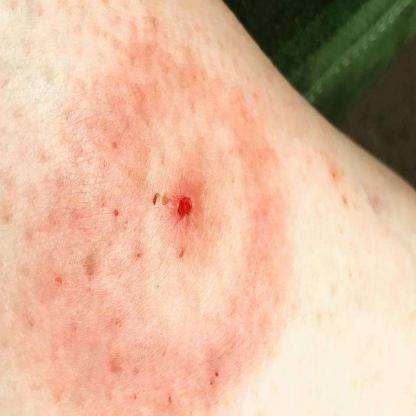Tick: (32, 22, 284, 415)
